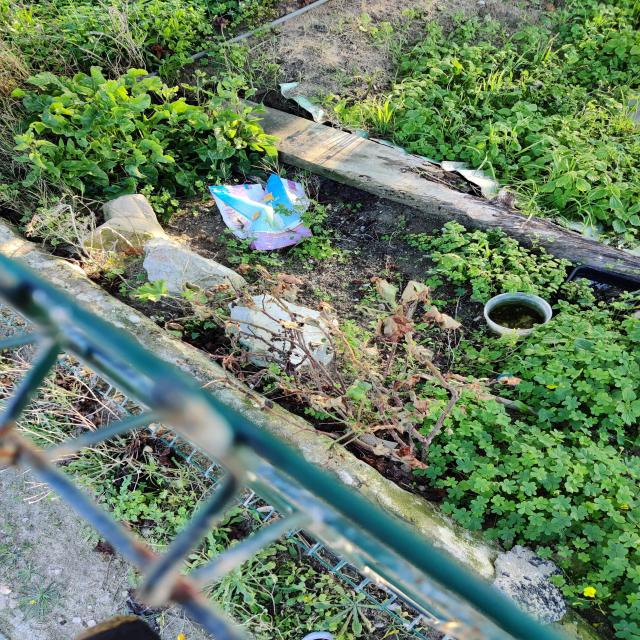litter: (209, 174, 314, 250), (558, 266, 640, 320), (484, 292, 551, 338)
